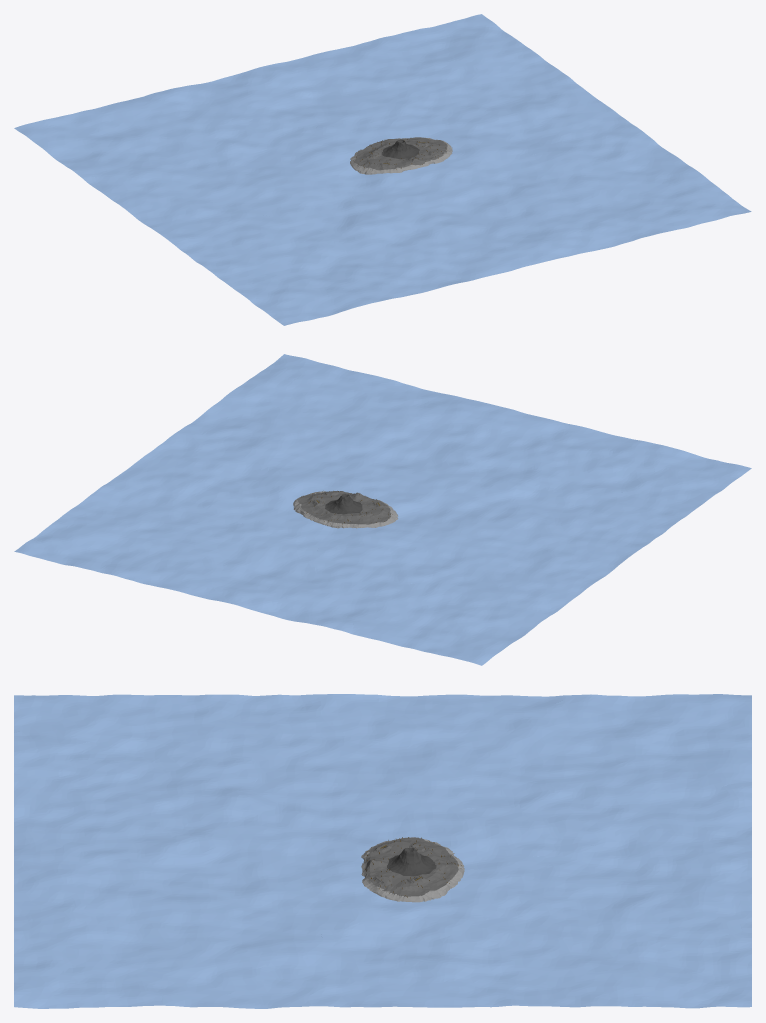
Rendered from terrain2.fbx.
The picture shows the model from 3 angles, top to bottom: view 1: azimuth 30°, elevation 25°; view 2: azimuth 150°, elevation 25°; view 3: azimuth 270°, elevation 25°; orthographic projection. The views are drawn at different scales.
Parts seen in each view (by area): view 1: Plane.001, Plane; view 2: Plane.001, Plane; view 3: Plane.001, Plane.
Part boxes in pixels (bbox=[...]): Plane.001: bbox=[14, 14, 751, 325]; Plane: bbox=[350, 137, 452, 174]; Plane.001: bbox=[14, 354, 751, 665]; Plane: bbox=[293, 491, 398, 528]; Plane.001: bbox=[14, 694, 751, 1008]; Plane: bbox=[361, 837, 464, 902].
Bounding box in the file's own units: 151721 × 6037 × 151721.
